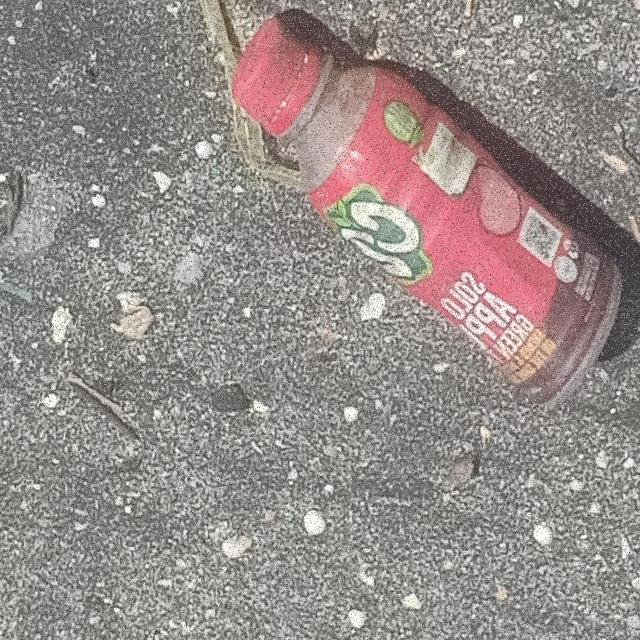plastic_waste: (233, 14, 624, 409)
